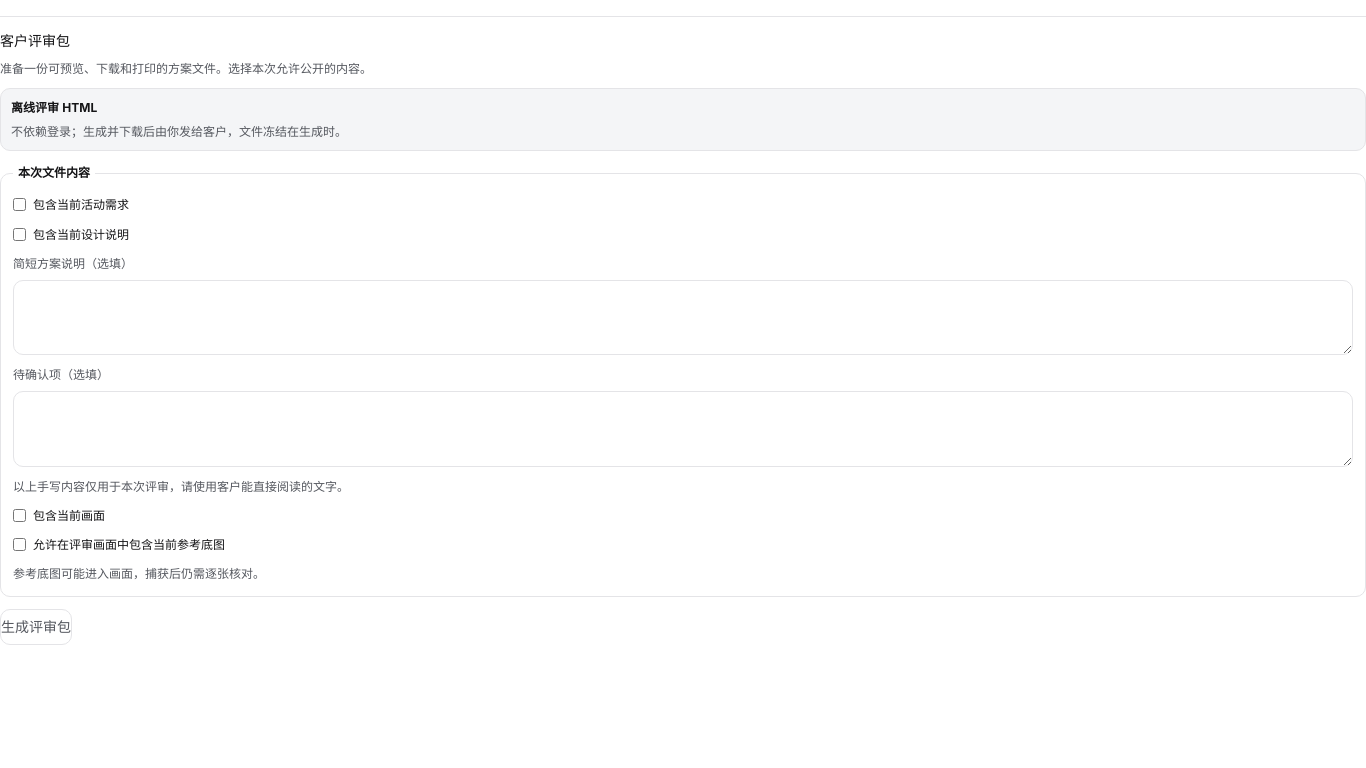
it: independent customer review panel › invalidates the old file when brief changes
The image size is (1366, 768).
Click the button "生成评审包". click: (36, 627)
box: [0,609,72,645]
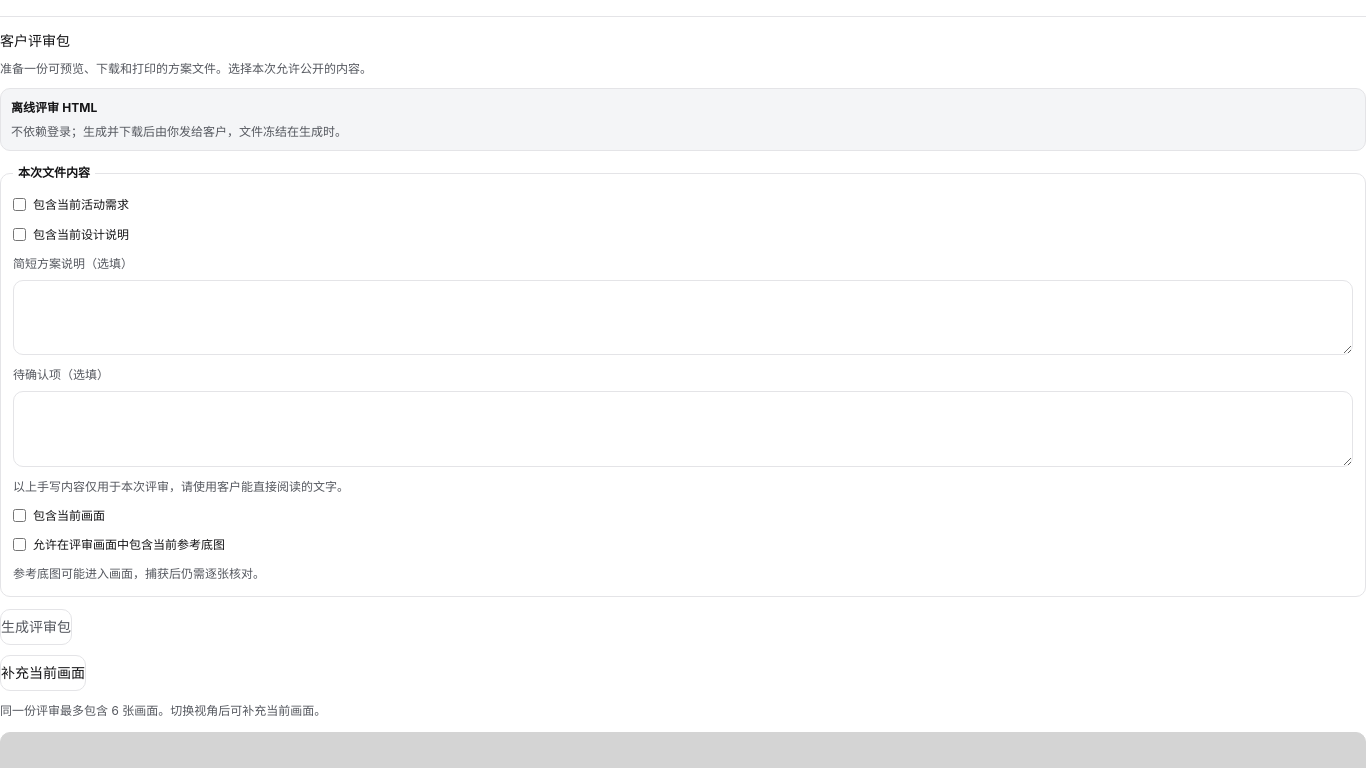
Click the checkbox labelled "包含当前活动需求". click: (20, 205)
box: [13,198,26,211]
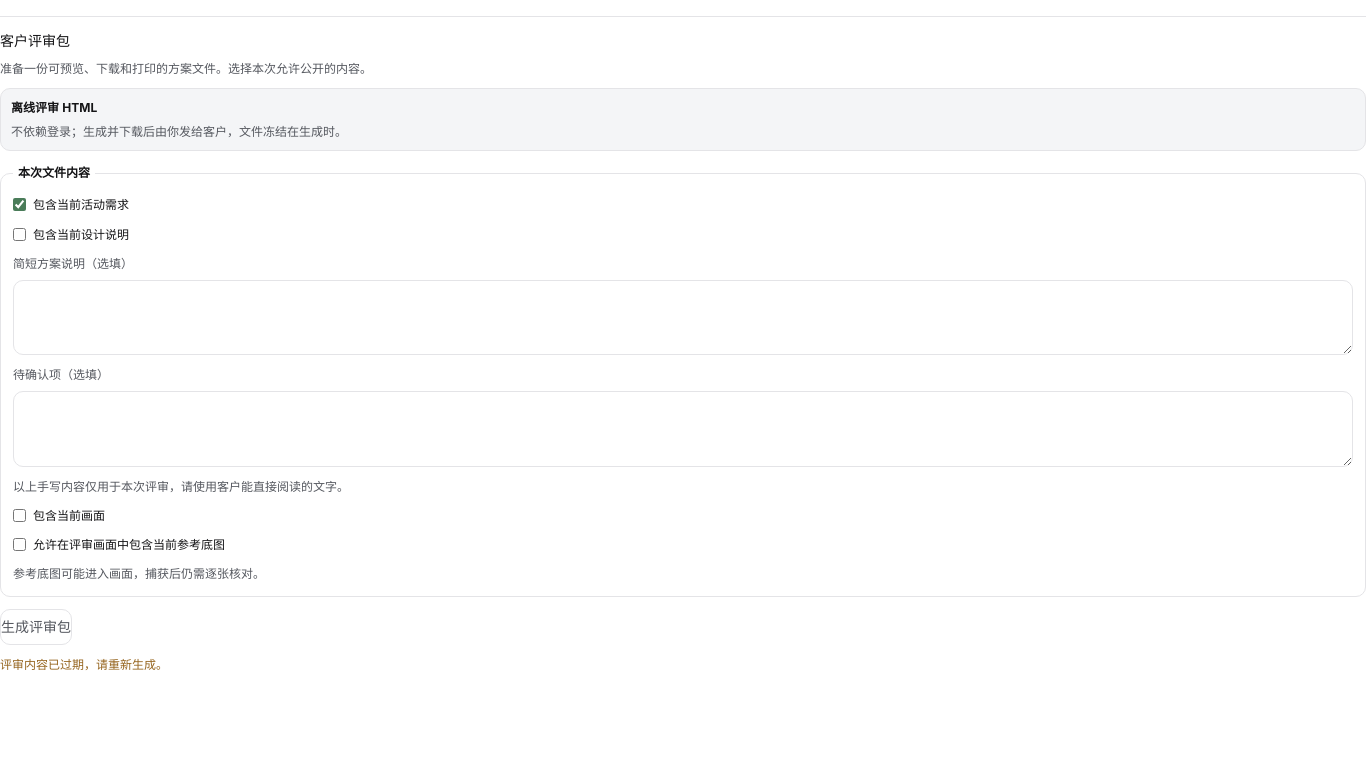
Expected: the text "评审内容已过期，请重新生成。" is shown, [0,657,168,672]
